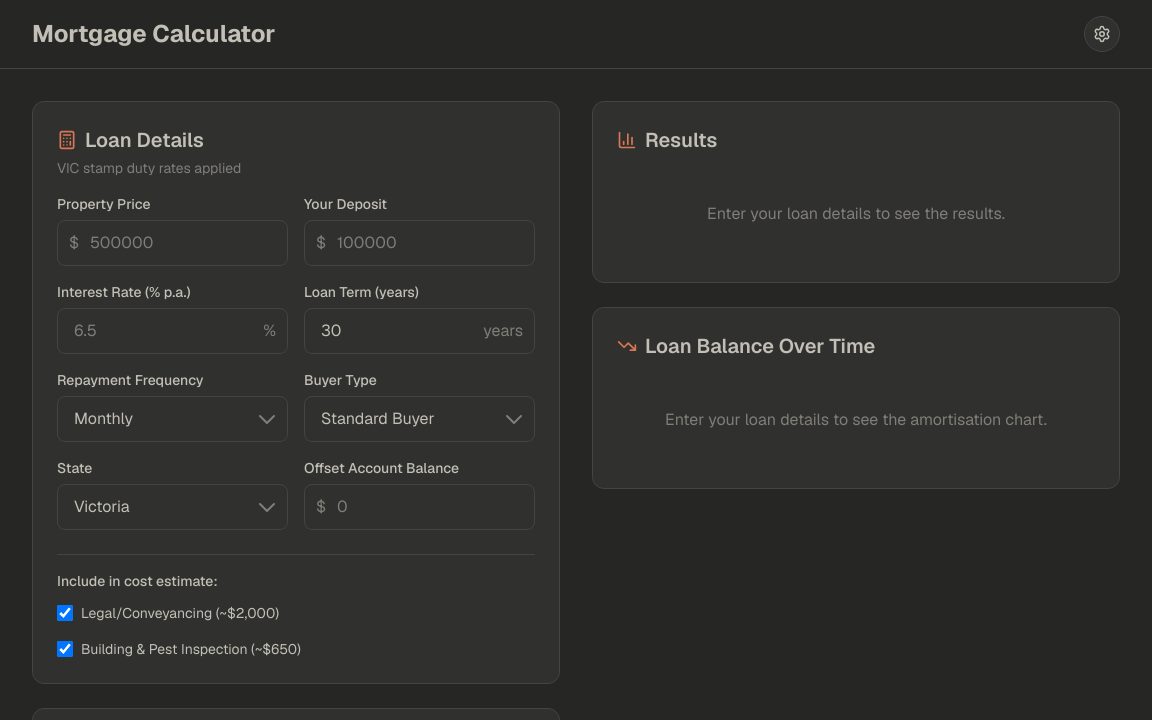
Test: MortgageCalculatorPage › opens the share modal with a generated link
The image size is (1152, 720).
Click the button named "More actions" at (1102, 34), box [1084,16,1120,52]
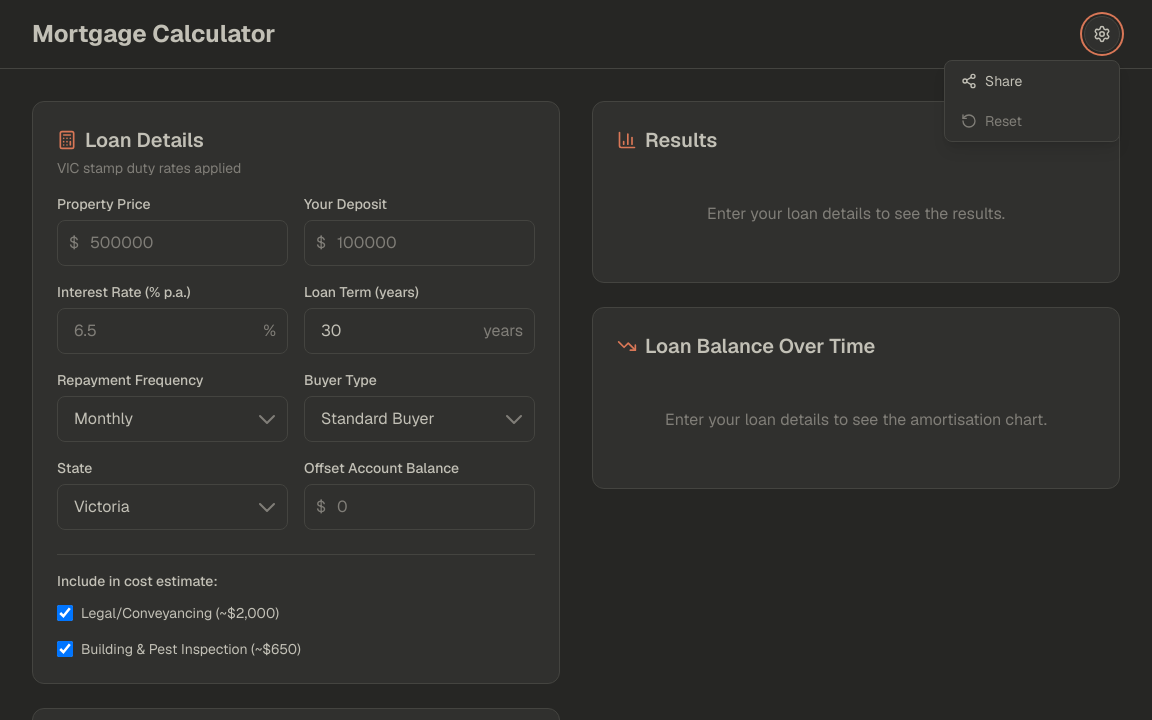
Click the menu item "Share" at (1032, 81), box [945,61,1119,101]
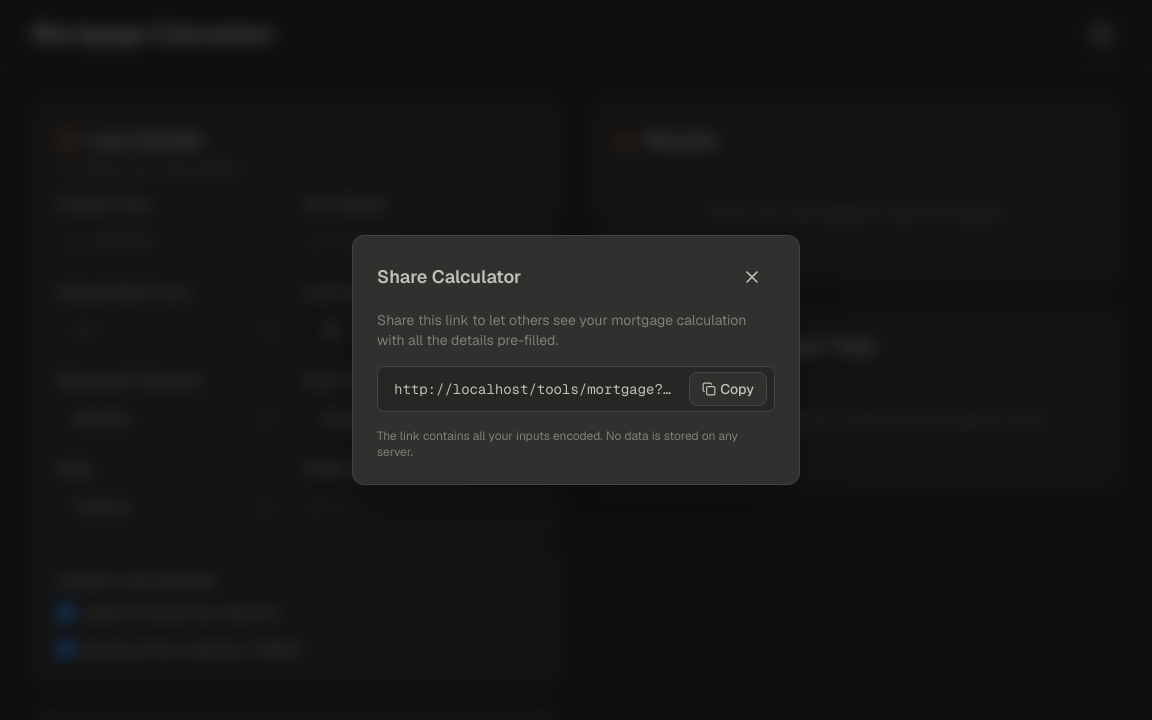
Expected: the heading "Share Calculator" is shown, [377,263,522,291]
Expected: the field showing "/tools/mortgage?data=" is shown, [377,366,775,412]
